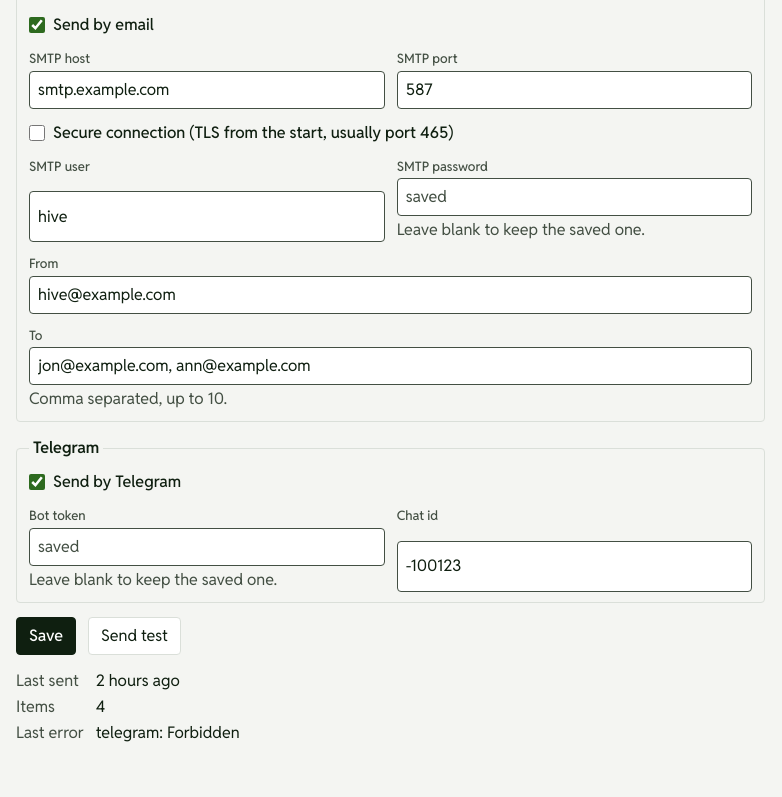
Test: settings page › shows the hive's error when saving fails
(page scrolled)
Click the button "Save".
click(46, 636)  # box [16, 616, 76, 654]
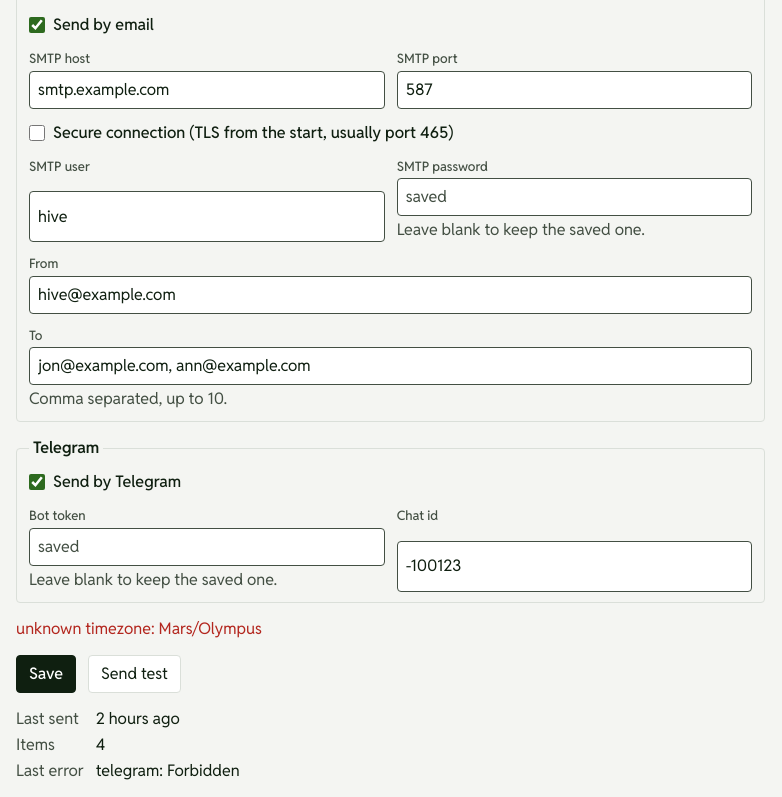
Expected: the message reads "unknown timezone: Mars/Olympus", [16, 618, 262, 638]
Click the button "Save".
click(46, 674)  # box [16, 654, 76, 692]
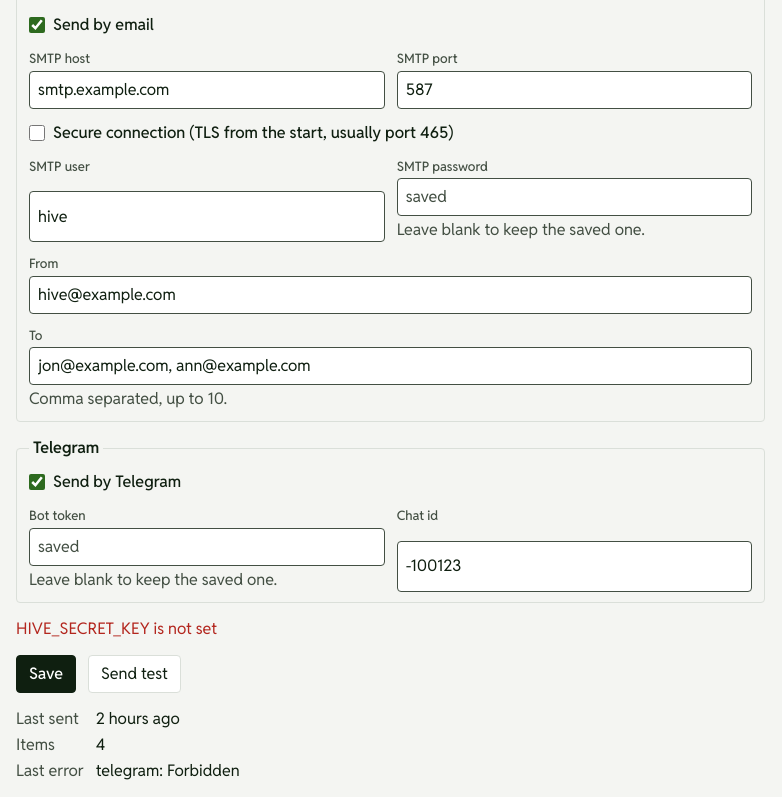
Expected: the message reads "HIVE_SECRET_KEY is not set", [16, 618, 217, 638]
